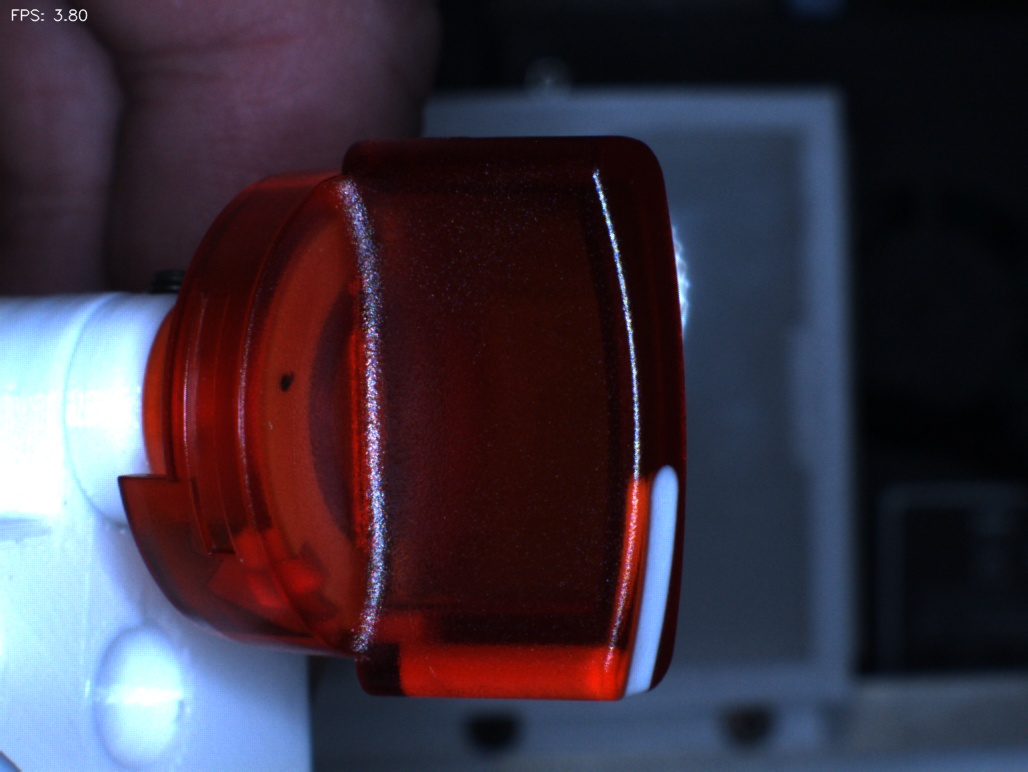PointNoir: (245, 342, 334, 436)
